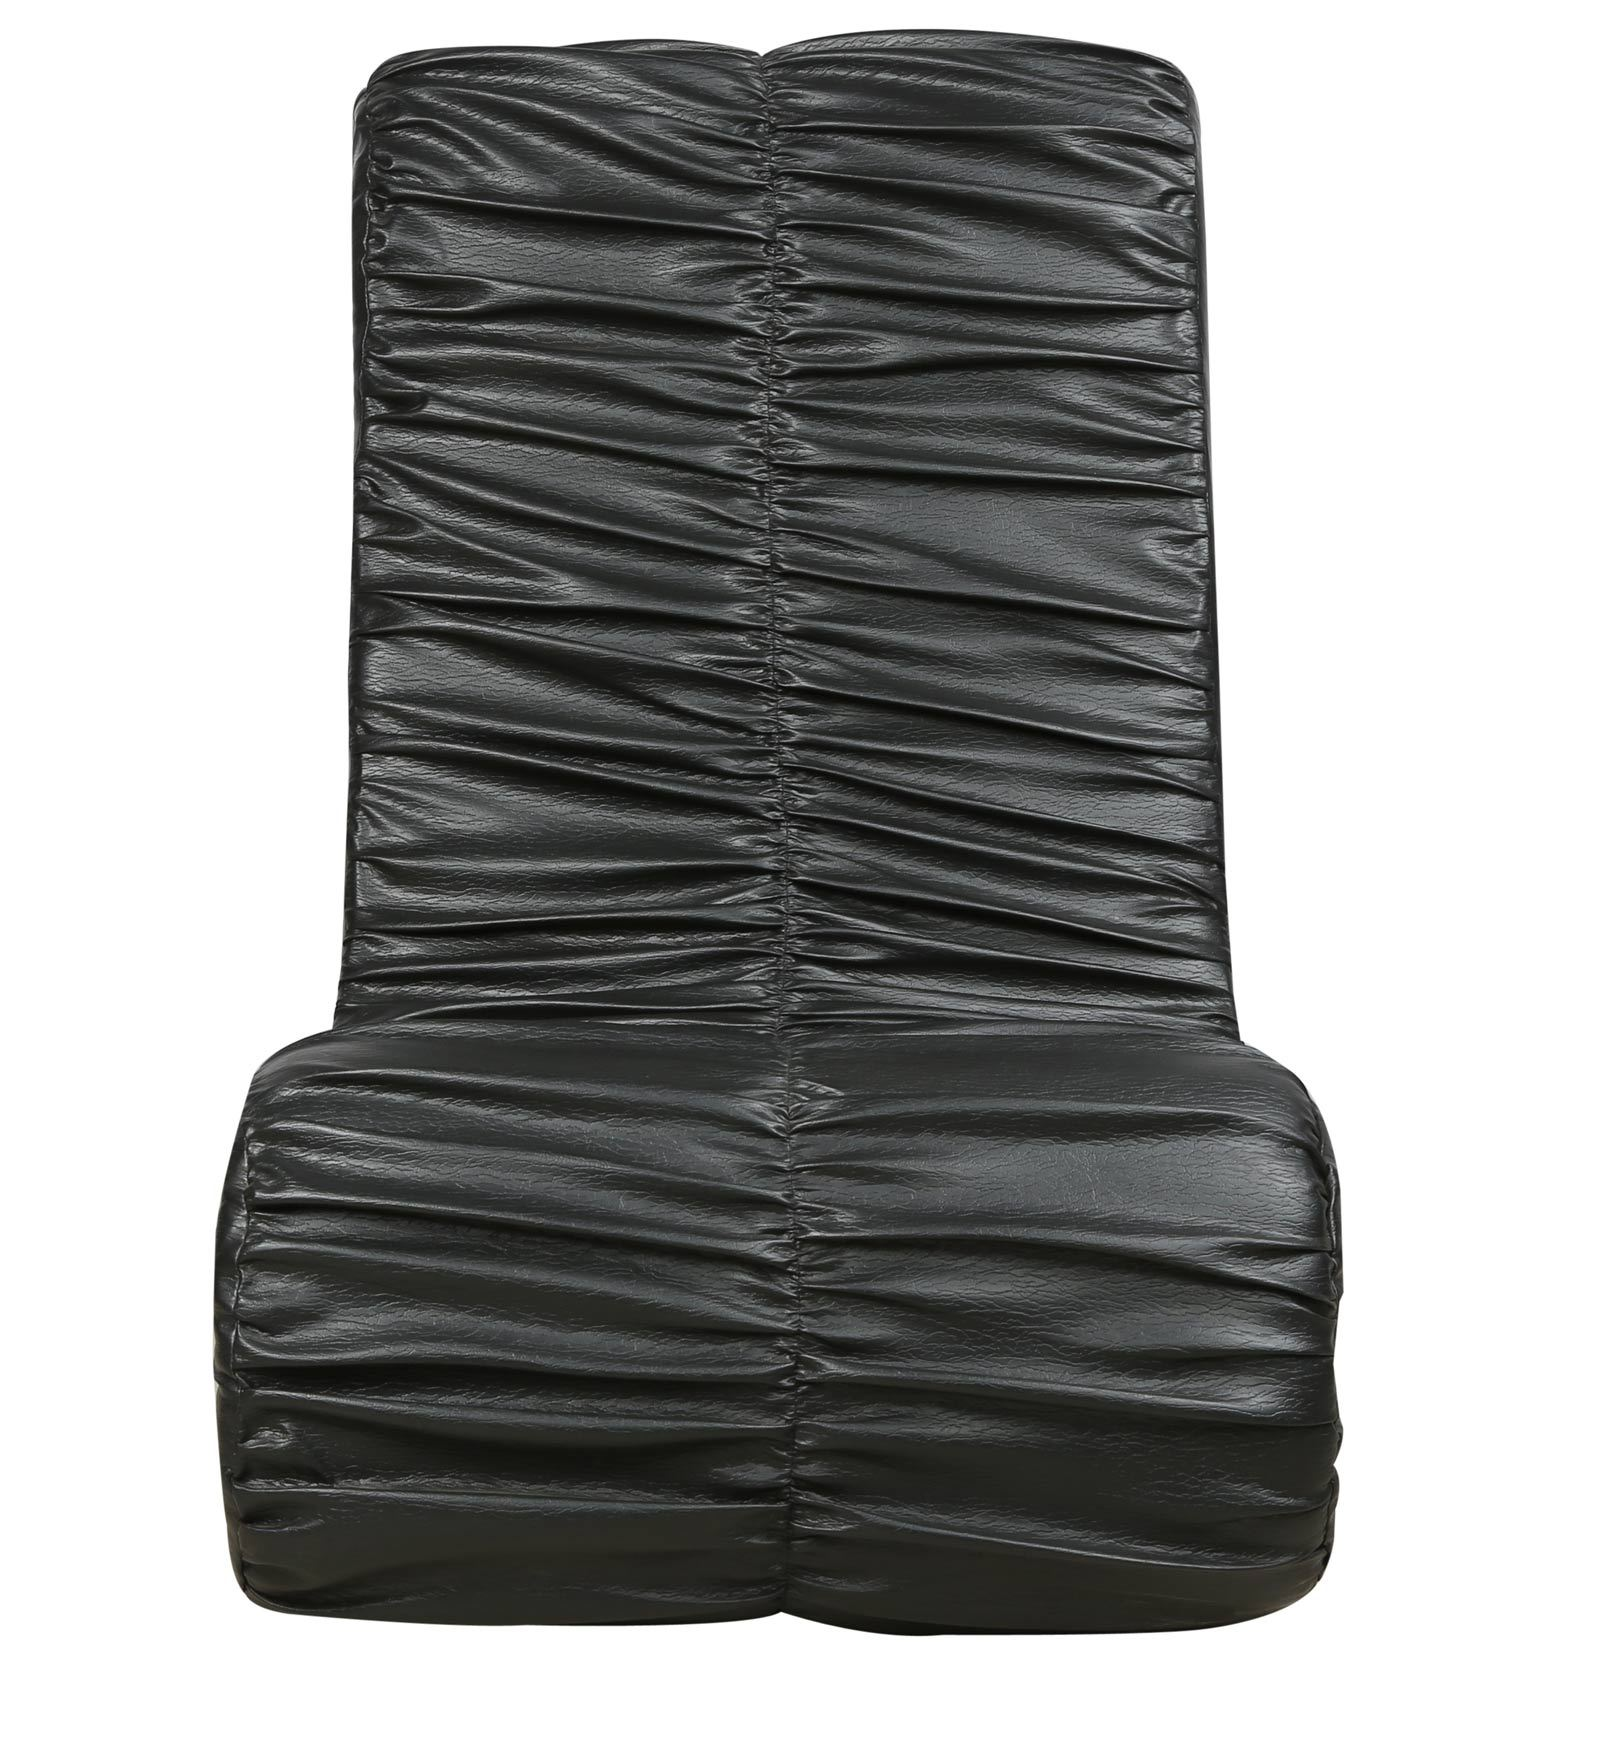Daisy Rocking Chair in Black Colour by Parin: (225, 20, 1352, 1728)
